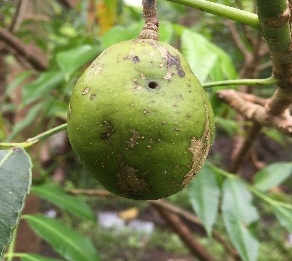Coc: (56, 37, 230, 210)
